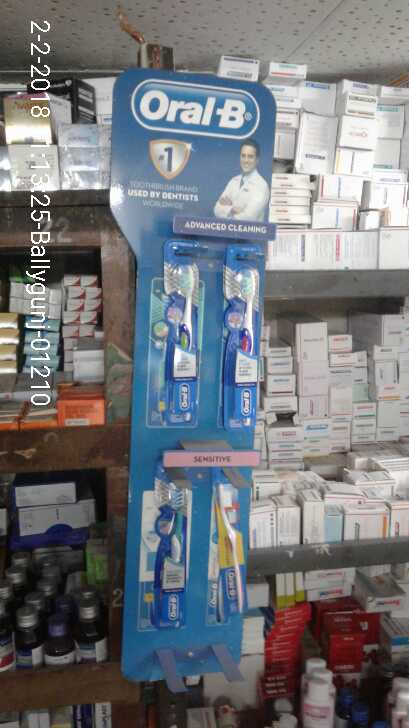oralb: (157, 234, 204, 430), (218, 239, 259, 436), (207, 470, 251, 622), (153, 465, 192, 627)
